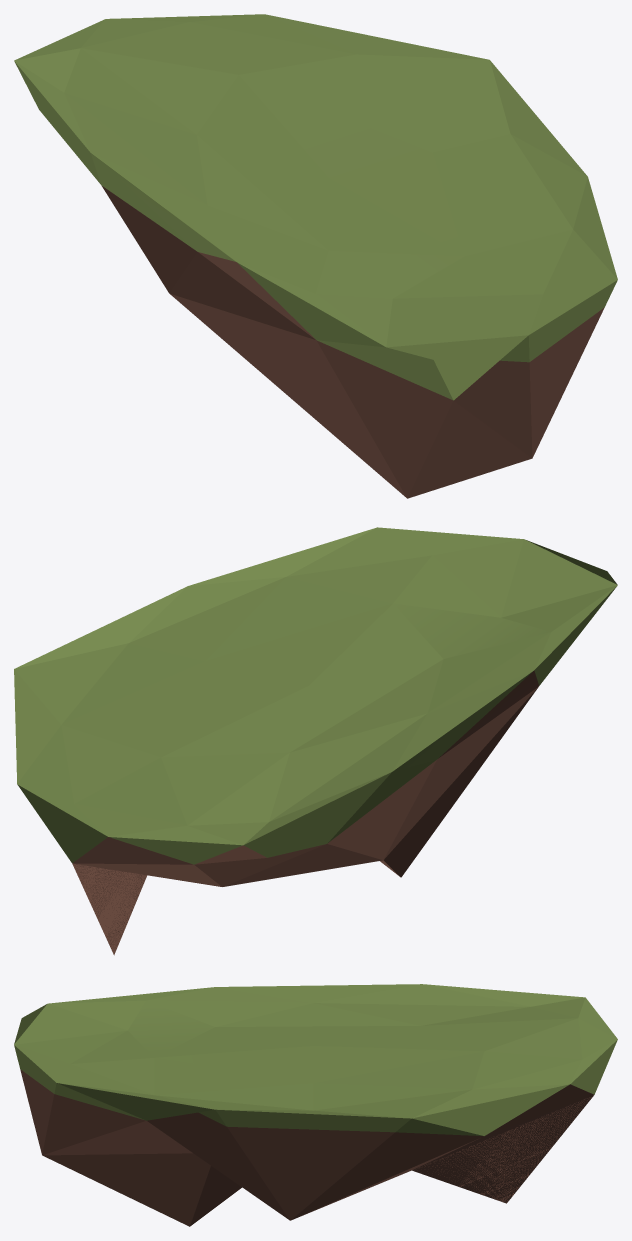
Rendered from primoblock.fbx.
3 renders of one model, top to bottom at view 1: azimuth 30°, elevation 25°; view 2: azimuth 150°, elevation 25°; view 3: azimuth 270°, elevation 25°, orthographic. The views are drawn at different scales.
Parts seen in each view (by area): view 1: Icosphere; view 2: Icosphere; view 3: Icosphere.
Boxes of the visible parts, x1=… form: Icosphere: x1=14, y1=14, x2=617, y2=498; Icosphere: x1=14, y1=527, x2=617, y2=955; Icosphere: x1=14, y1=984, x2=617, y2=1226.
Size of the model in its own units: 3992 by 2605 by 7459.
